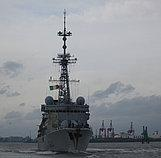MIL_Ship: (34, 8, 93, 153)
